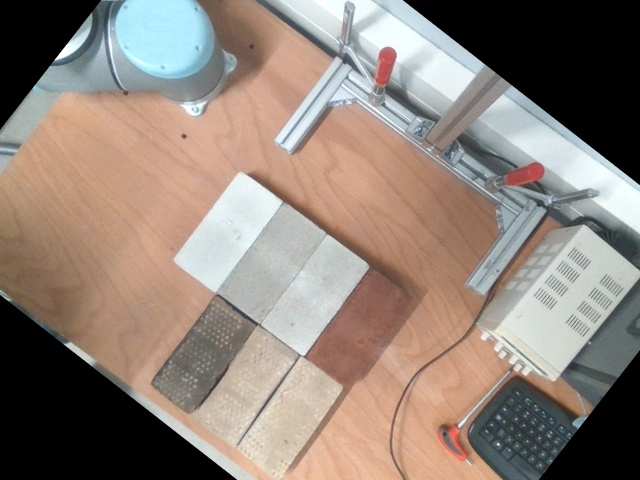brick: (219, 205, 323, 322), (263, 237, 367, 354), (238, 358, 341, 476), (153, 298, 253, 412), (195, 330, 294, 443), (312, 272, 411, 384), (178, 176, 276, 287)
